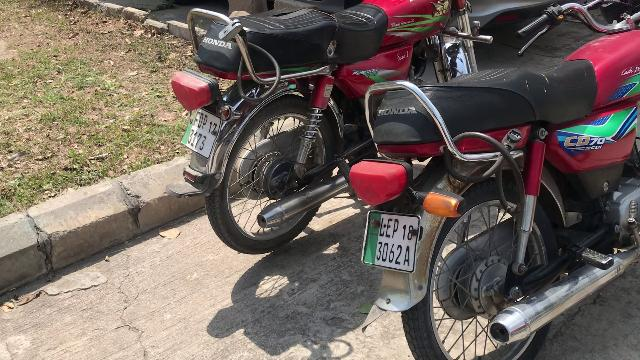plate: (360, 206, 420, 270)
